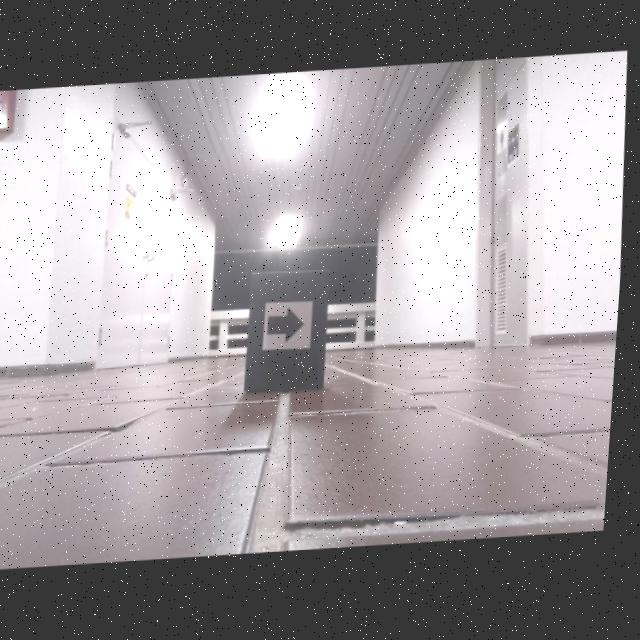RIGHT: (272, 310, 309, 345)
